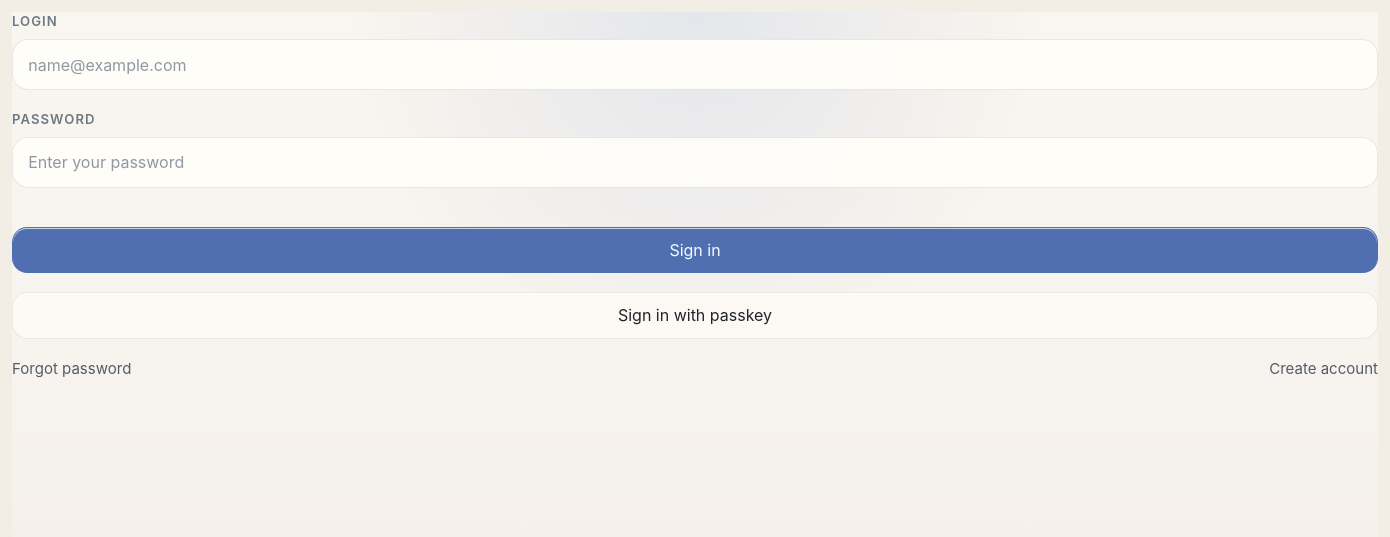
Scenario: LoginForm › keeps the email-not-verified handling local to the login form
Type "demo@example.com" into the field labelled "Login" at (695, 65), box [12,39,1378,90]
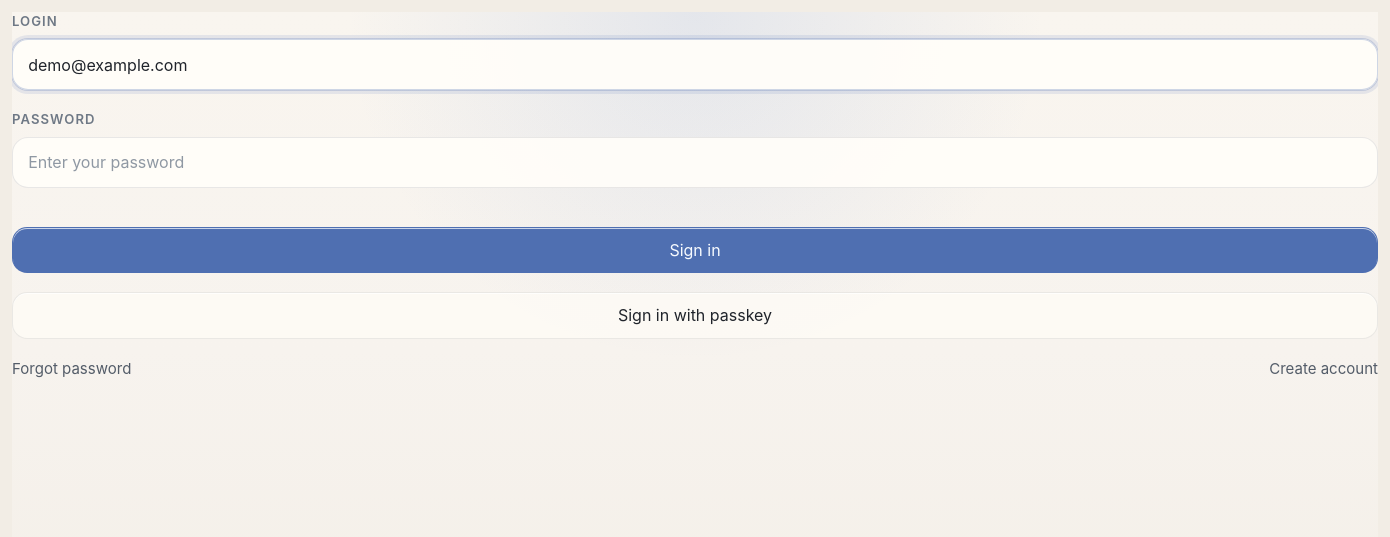
Type "very-secret" into the password field labelled "Password" at (695, 162), box [12,136,1378,188]
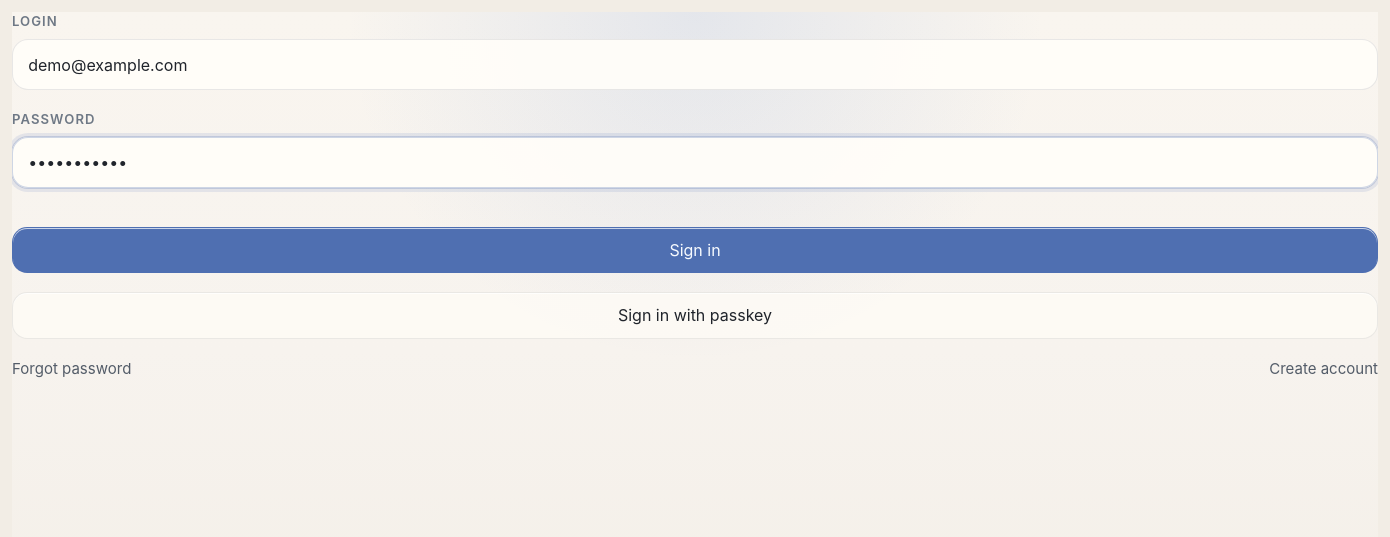
Click the button "Sign in" at (695, 250), box [12,226,1378,273]
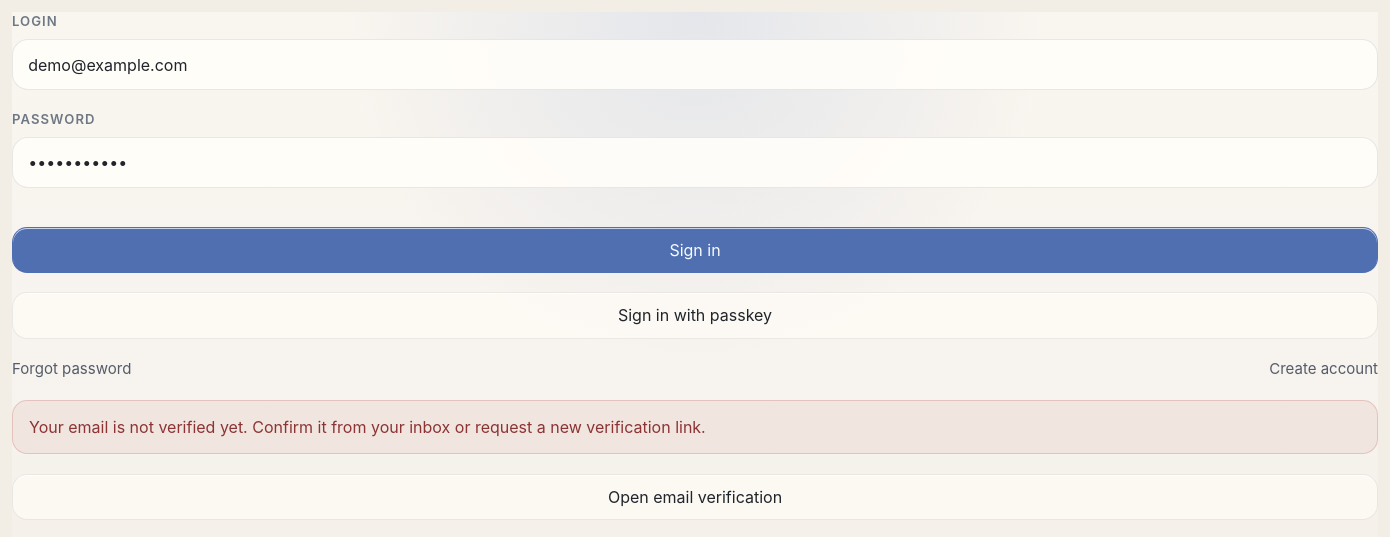
Now the text "Your email is not verified yet. Confirm it from your inbox or request a new verification link." is shown, box [29,417,706,437]
Now the link "Open email verification" is shown, box [12,474,1378,520]
